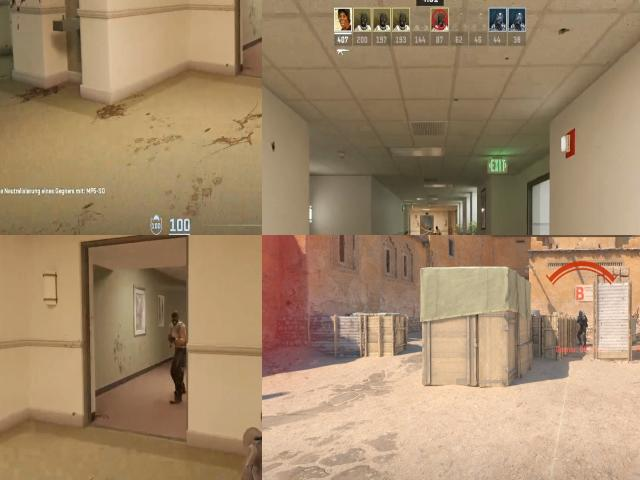CT: (577, 310, 587, 346)
CT-Head: (578, 311, 584, 316)
T: (163, 307, 187, 370), (433, 222, 441, 235)
T-Head: (168, 308, 182, 332)
